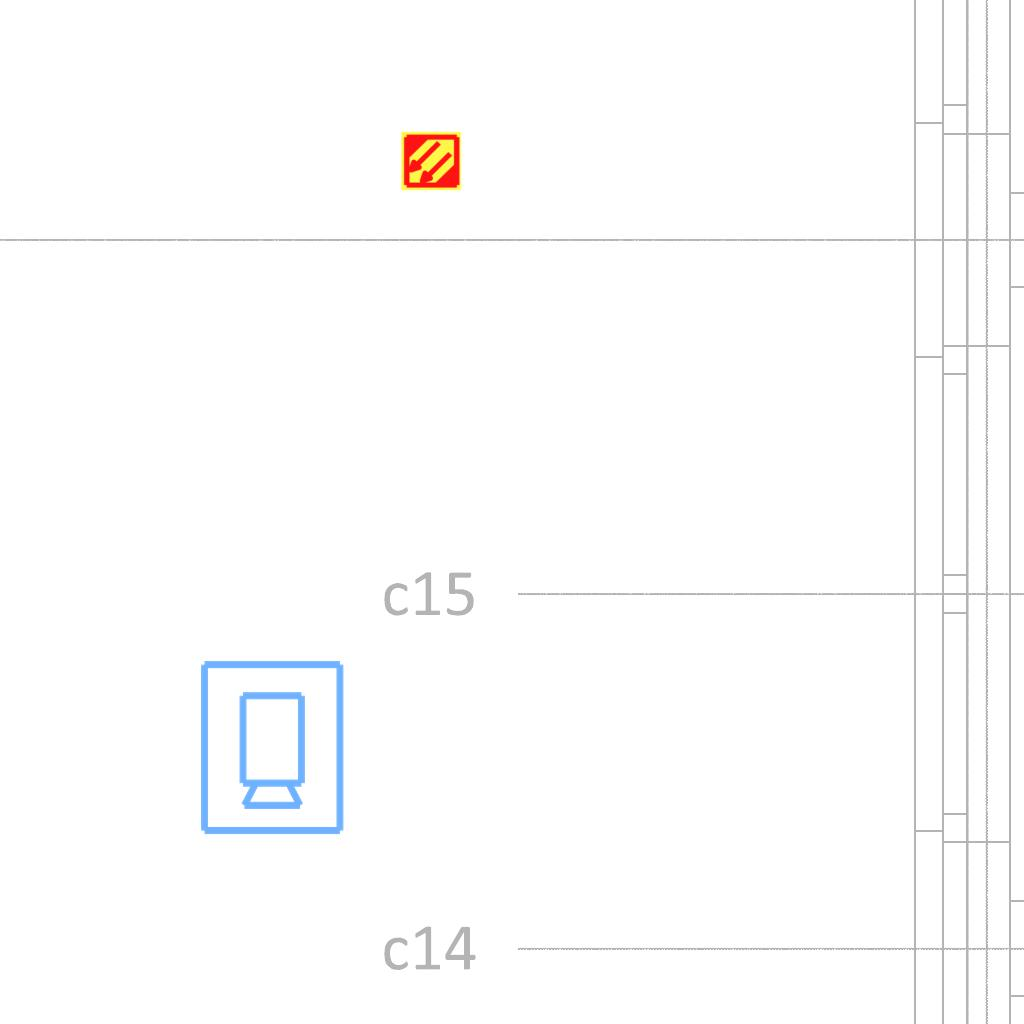ASR_Ansaugrauchmelder: (400, 130, 462, 192)
KFO_Kamera_mit_Festobjektiv: (194, 656, 348, 838)
